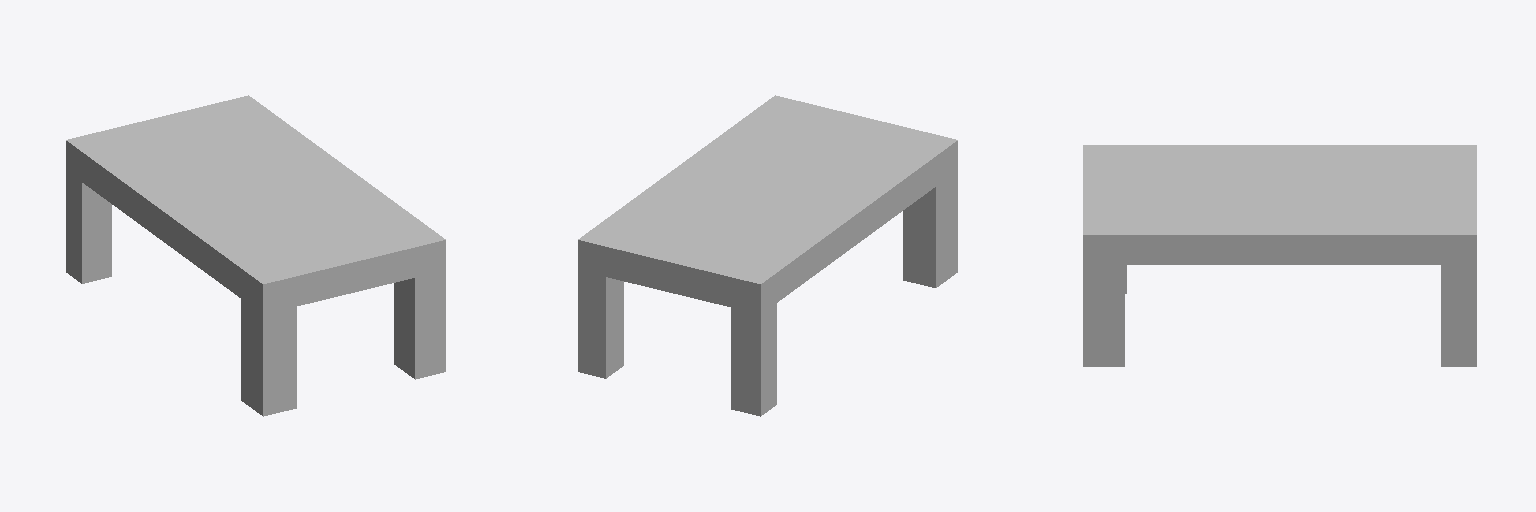
Rendered from table.obj.
3 views of the same model, side by side, from view 1: azimuth 30°, elevation 25°; view 2: azimuth 150°, elevation 25°; view 3: azimuth 270°, elevation 25° (orthographic).
Parts seen in each view (by area): view 1: Cube; view 2: Cube; view 3: Cube.
Part boxes in pixels (bbox=[...]): Cube: bbox=[66, 95, 445, 416]; Cube: bbox=[578, 95, 957, 416]; Cube: bbox=[1083, 145, 1476, 366].
Size of the model in its own units: 3.55 by 2.45 by 6.63.